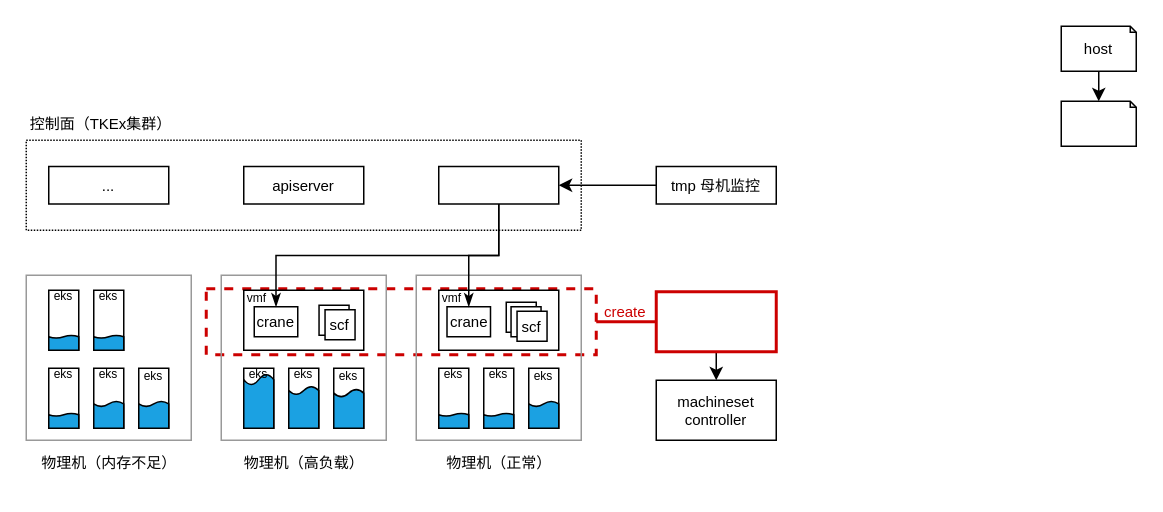
This 1163x512 diagram has some shape labels left out. Each missing label, with the centre of its shape:
"machine" goes at (1098,123).
"metrics adapter" goes at (498,184).
"offline-node controller" goes at (715,321).
